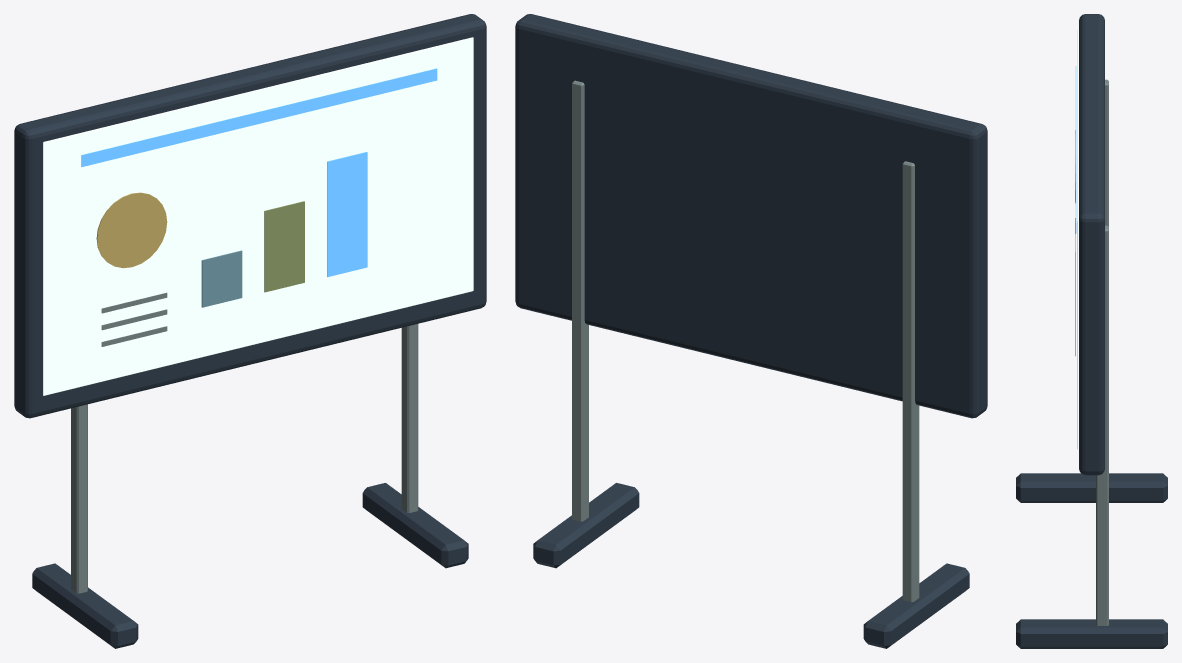
File: presentation_screen.glb
The picture shows the model from 3 angles, left to right: view 1: azimuth 30°, elevation 25°; view 2: azimuth 150°, elevation 25°; view 3: azimuth 270°, elevation 25°; orthographic projection. The views are drawn at different scales.
Visible parts, largest first — view 1: presentation_screen__screen_white, presentation_screen__metal, presentation_screen__code_blue, presentation_screen__metal_light, presentation_screen__sticky_yellow, presentation_screen__sticky_green, presentation_screen__sticky_blue; view 2: presentation_screen__metal, presentation_screen__metal_light; view 3: presentation_screen__metal, presentation_screen__metal_light, presentation_screen__screen_white, presentation_screen__code_blue.
Boxes of the visible parts, bbox=[...] form: presentation_screen__screen_white: bbox=[43, 37, 473, 395]; presentation_screen__metal: bbox=[14, 14, 486, 648]; presentation_screen__code_blue: bbox=[81, 68, 437, 277]; presentation_screen__metal_light: bbox=[71, 292, 418, 593]; presentation_screen__sticky_yellow: bbox=[96, 192, 167, 268]; presentation_screen__sticky_green: bbox=[264, 201, 304, 292]; presentation_screen__sticky_blue: bbox=[201, 250, 242, 307]; presentation_screen__metal: bbox=[515, 14, 987, 648]; presentation_screen__metal_light: bbox=[572, 80, 919, 602]; presentation_screen__metal: bbox=[1016, 14, 1167, 648]; presentation_screen__metal_light: bbox=[1075, 79, 1108, 625]; presentation_screen__screen_white: bbox=[1077, 30, 1078, 449]; presentation_screen__code_blue: bbox=[1075, 66, 1076, 356].
Size of the model in its own units: 1.85 by 1.93 by 0.58.
